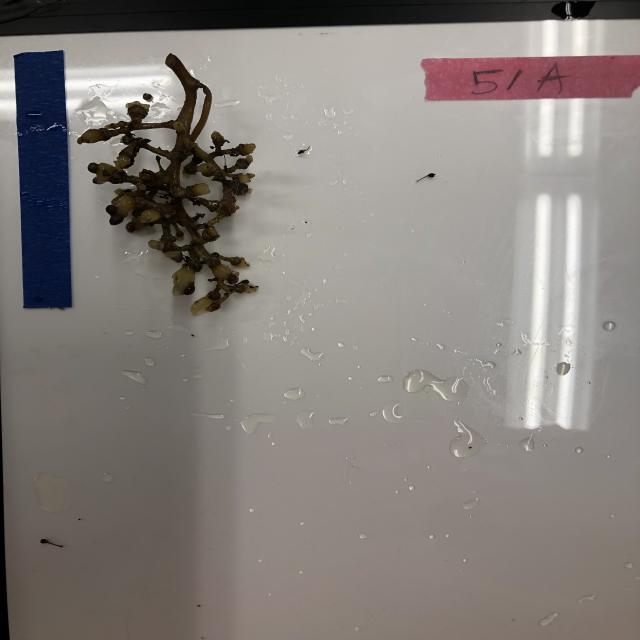index: (421, 56, 640, 98)
measure_label: (13, 48, 75, 309)
rachis_cluster: (80, 50, 277, 318)
